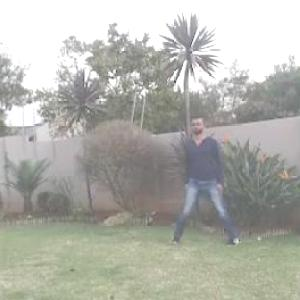follow: (184, 105, 224, 240)
